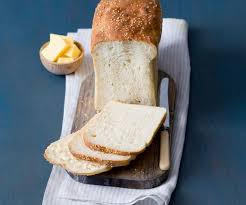bread: (63, 2, 173, 181)
